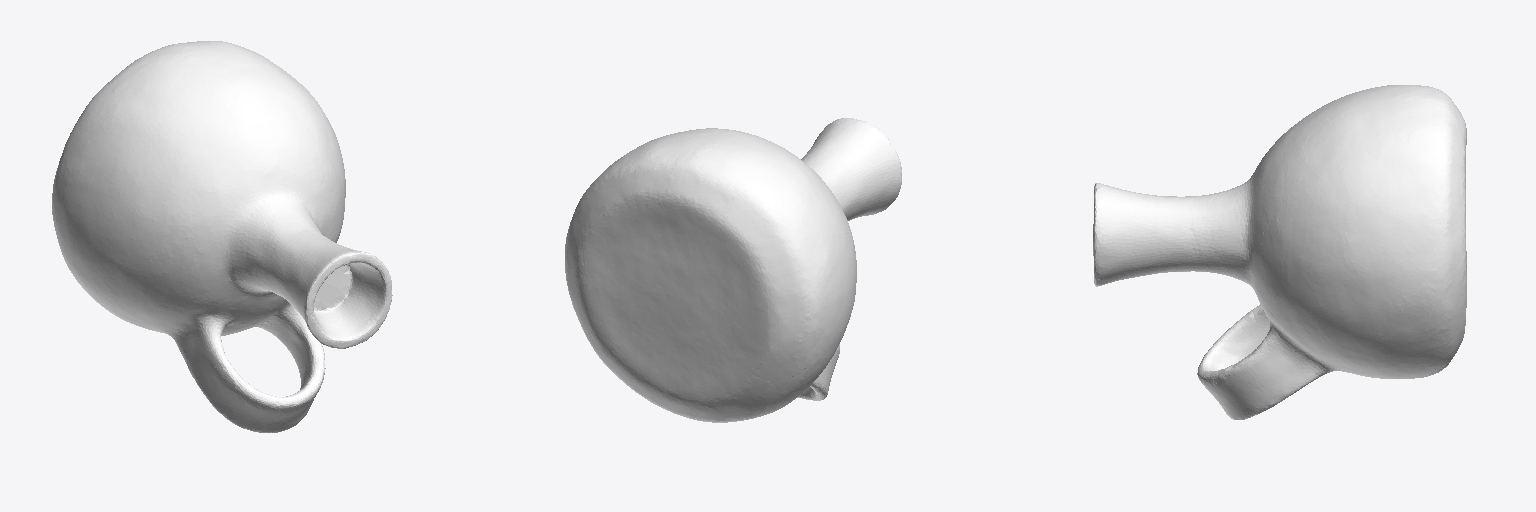
The model's file is botella.obj.
3 views of the same model, side by side, from view 1: azimuth 30°, elevation 25°; view 2: azimuth 150°, elevation 25°; view 3: azimuth 270°, elevation 25° (orthographic).
Bounding box in the file's own units: 28.71 × 33.68 × 36.18.